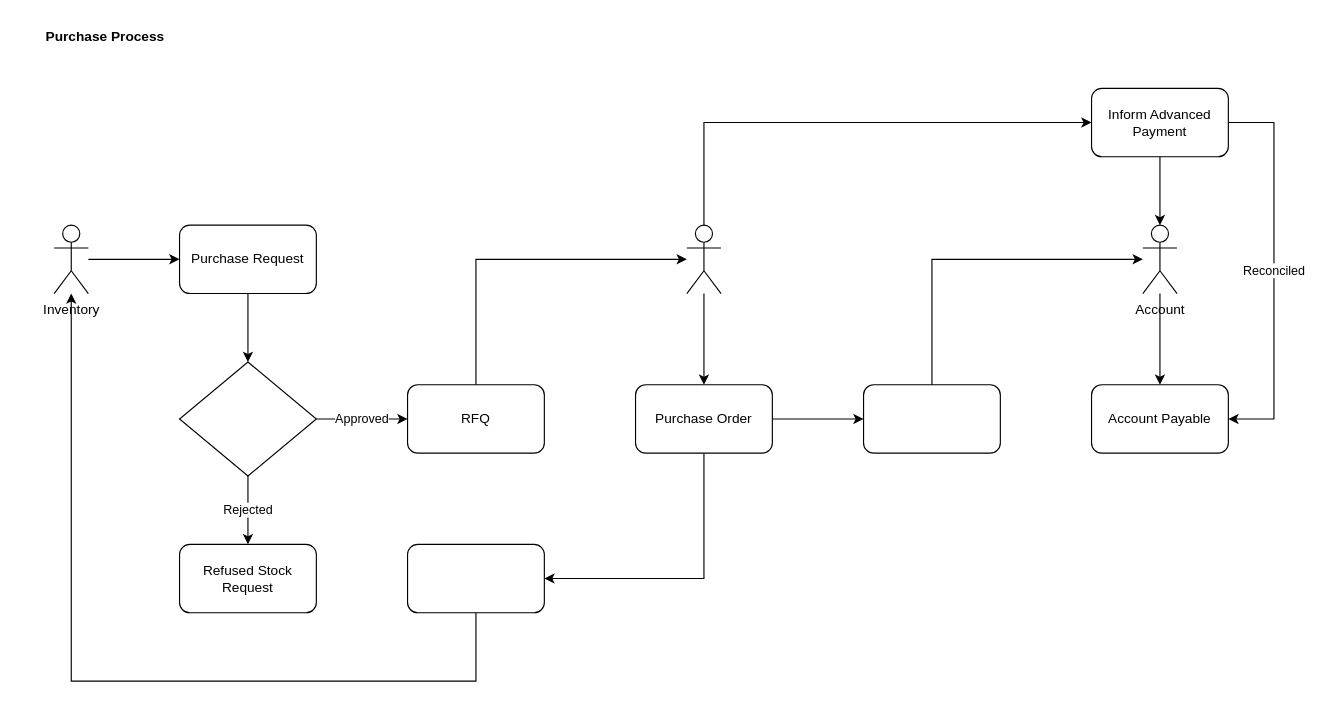
Image size: 1324x710. Some labels were removed from this diagram. The box of each missing label's shape, as (x1, y1, x2, y2) in pixels:
Approval: (178, 361, 316, 476)
Draft Vendor Bill: (862, 384, 1000, 453)
Purchaser: (686, 224, 721, 294)
Stock Receipt: (406, 543, 544, 613)
